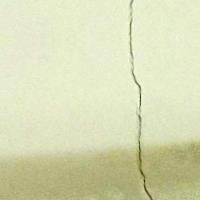crack: (103, 0, 184, 199)
